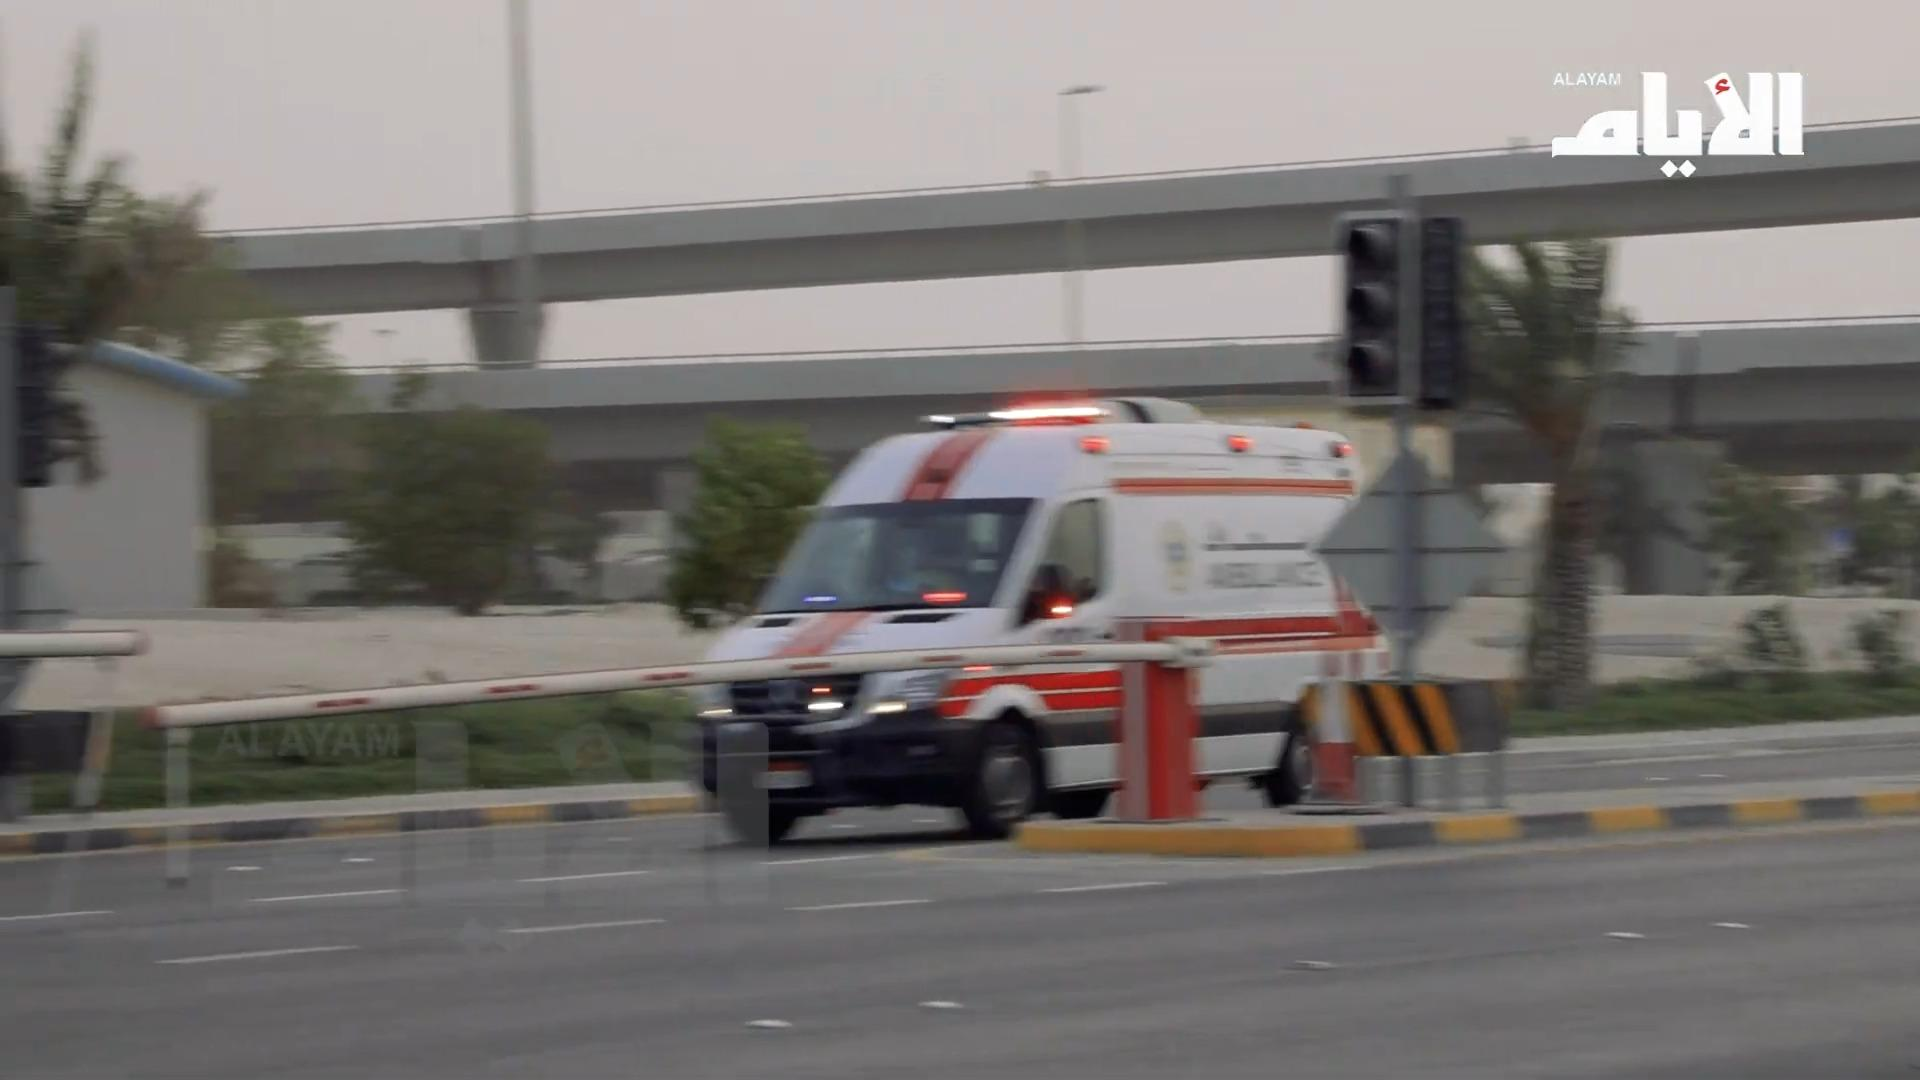ambulance_on: (700, 393, 1396, 835)
